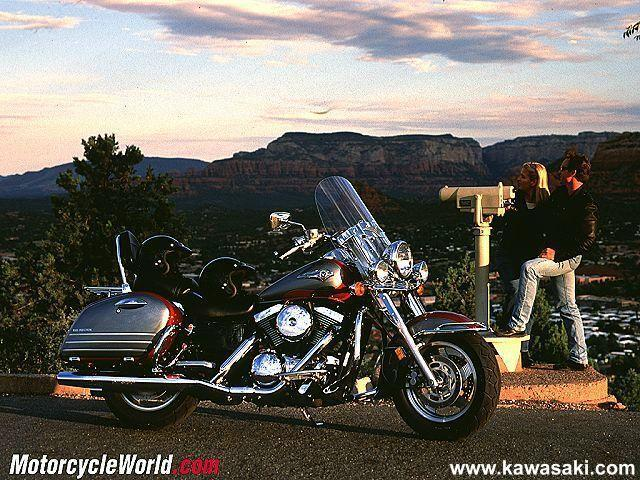motorcycle: (45, 174, 507, 445)
